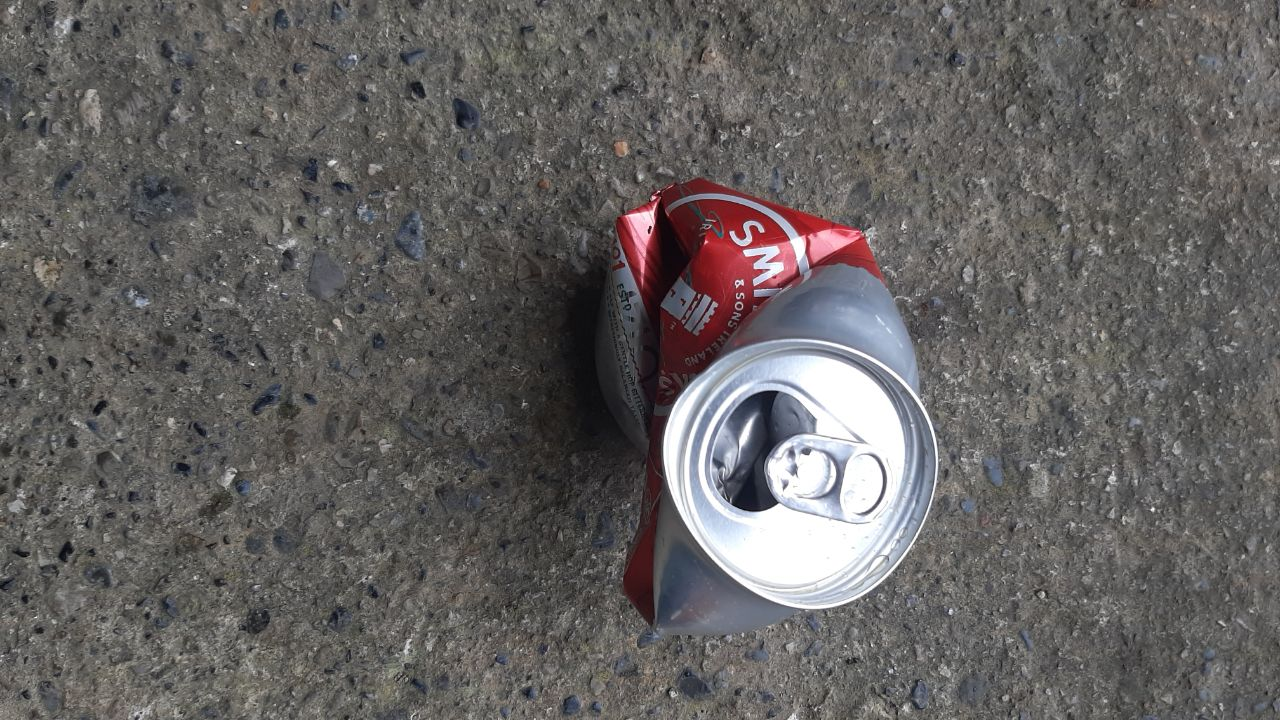Can: (595, 178, 939, 640)
